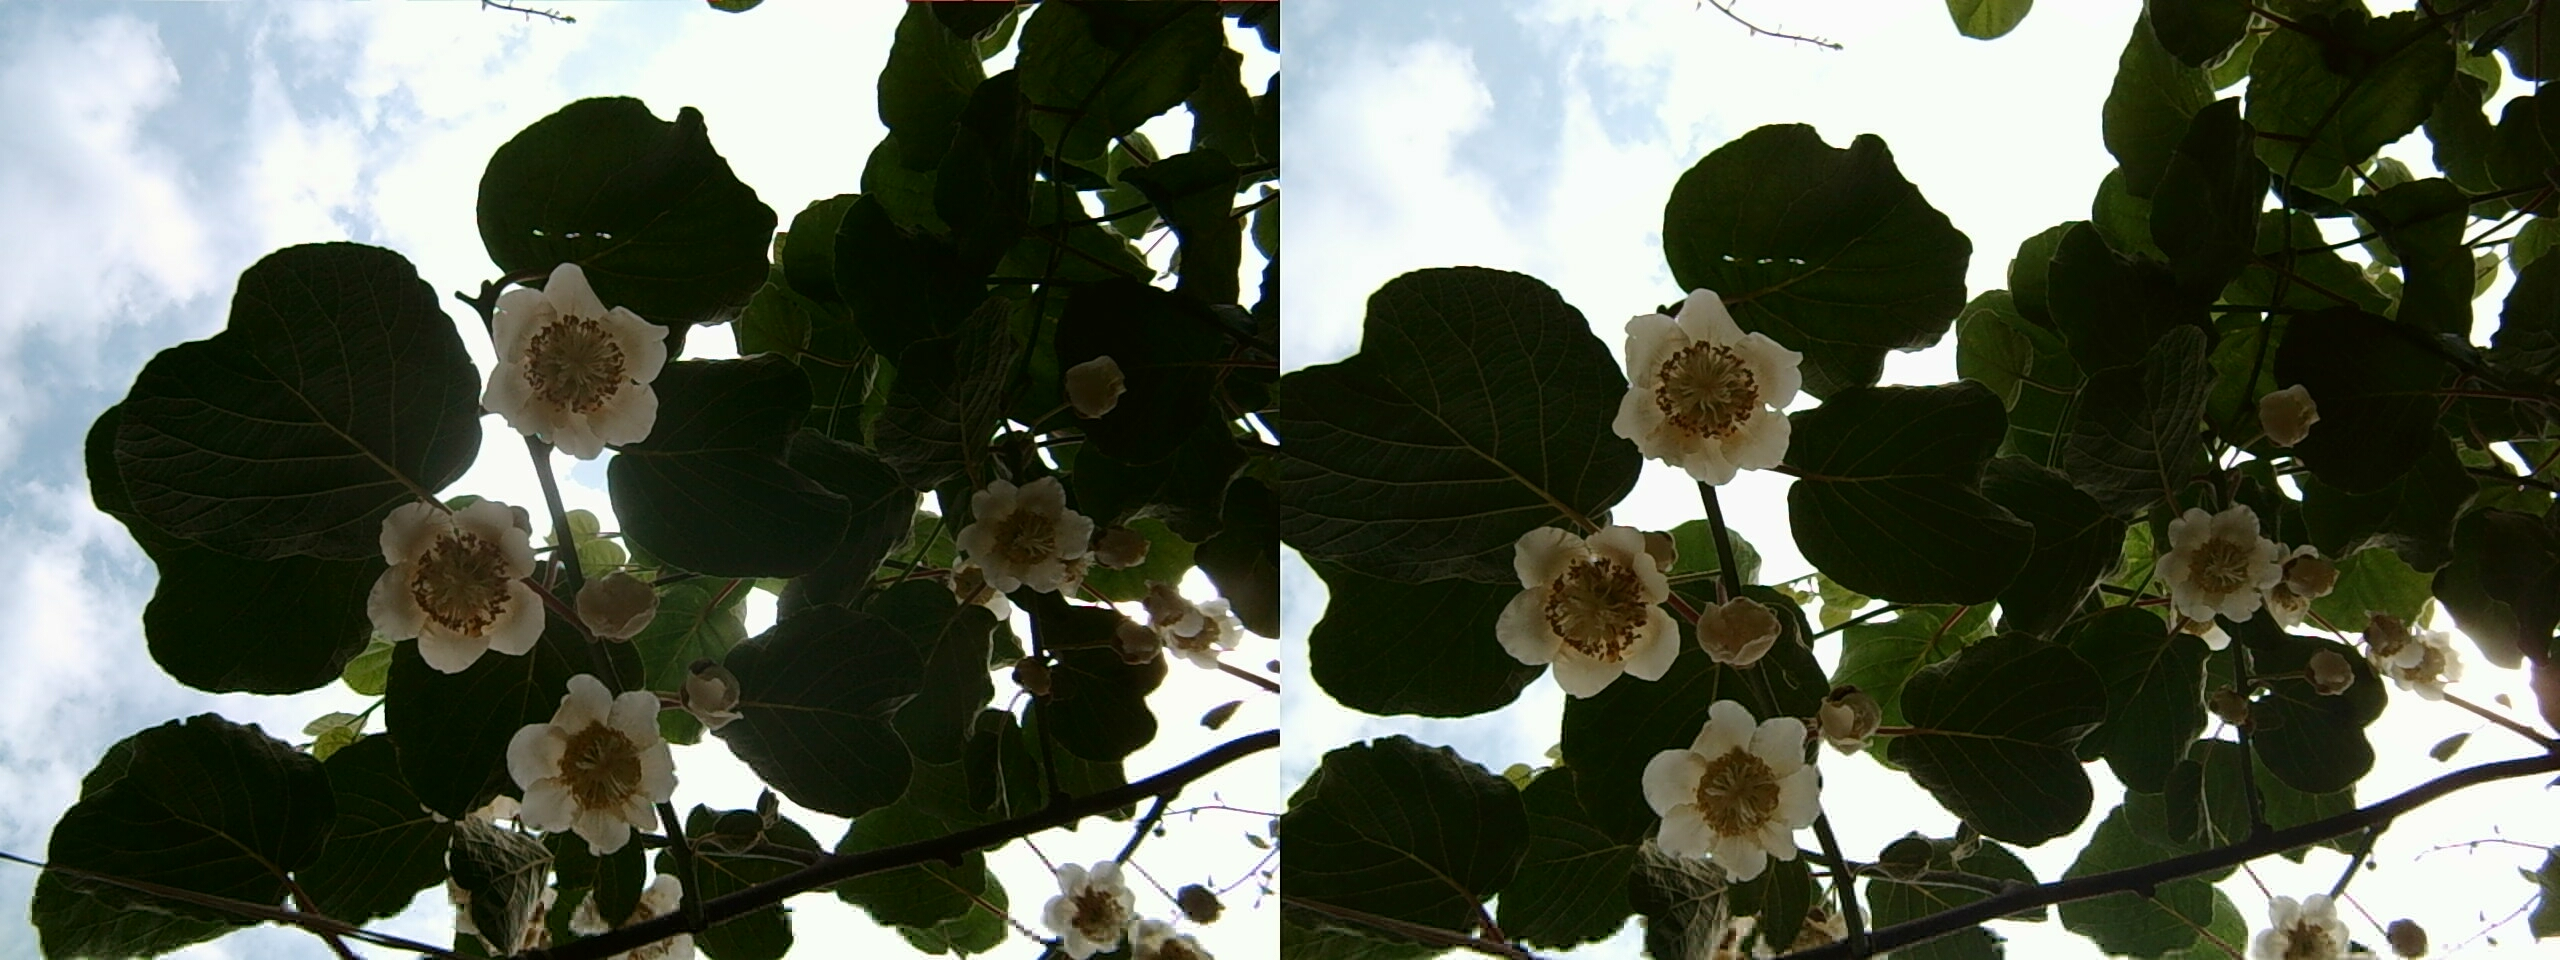flower: (470, 256, 674, 457), (1603, 278, 1799, 482), (491, 666, 687, 857), (361, 482, 552, 668), (1638, 697, 1830, 875), (1497, 513, 1683, 692), (2149, 504, 2331, 630), (957, 477, 1110, 589)
